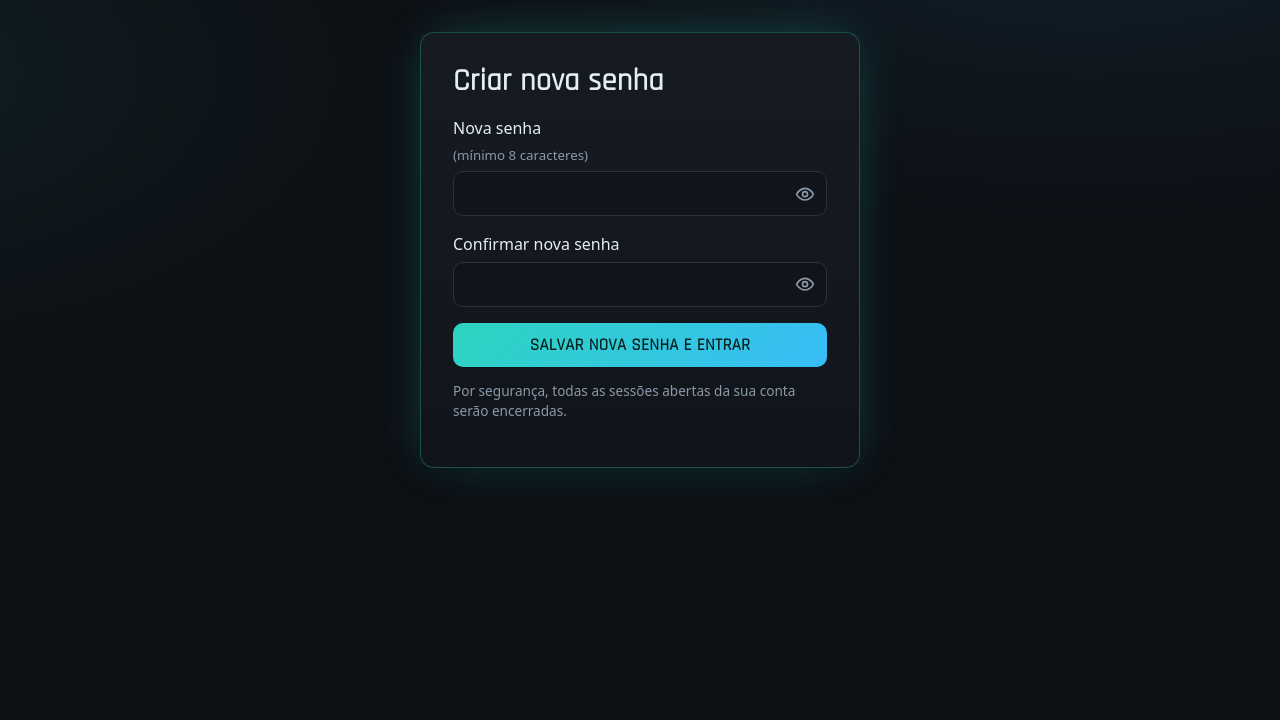
Scenario: redefinir senha › link expirado oferece pedir outro
Type "novaSenha456" into the password field labelled "Nova senha (mínimo 8 caracteres)" at (640, 194), box [453,171,827,216]
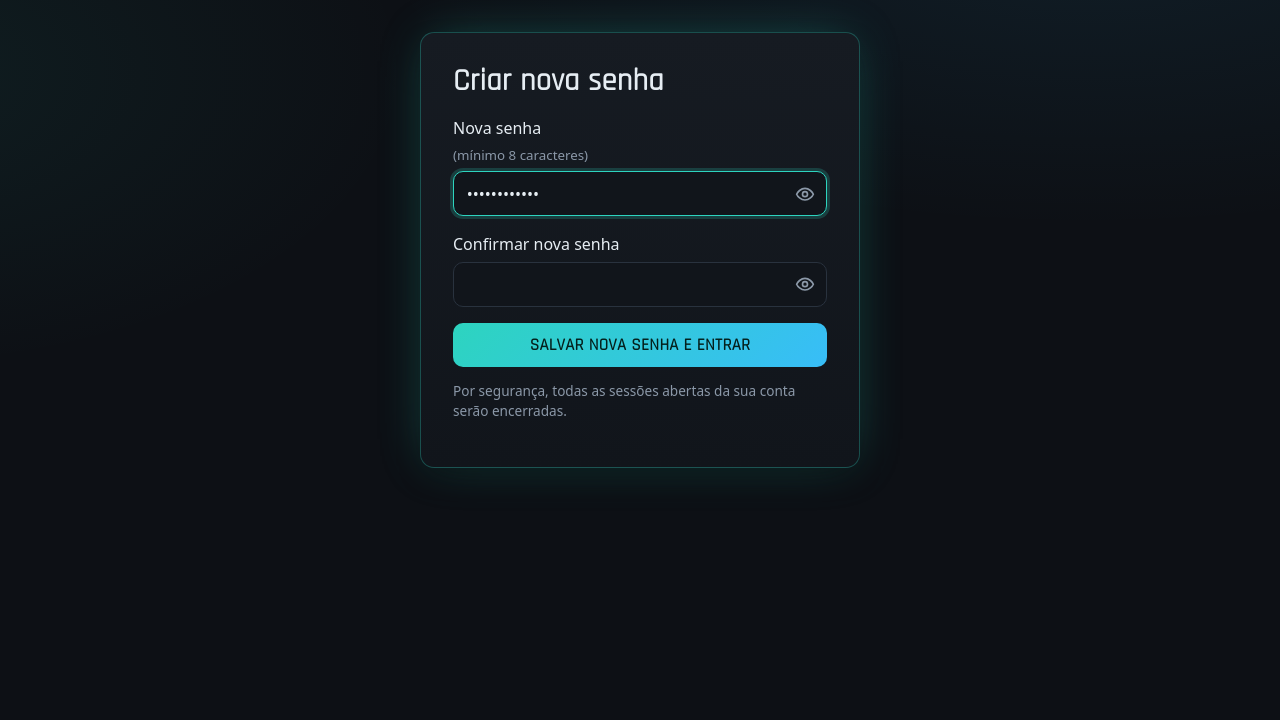
Type "novaSenha456" into the password field labelled "Confirmar nova senha" at (640, 284), box [453,262,827,307]
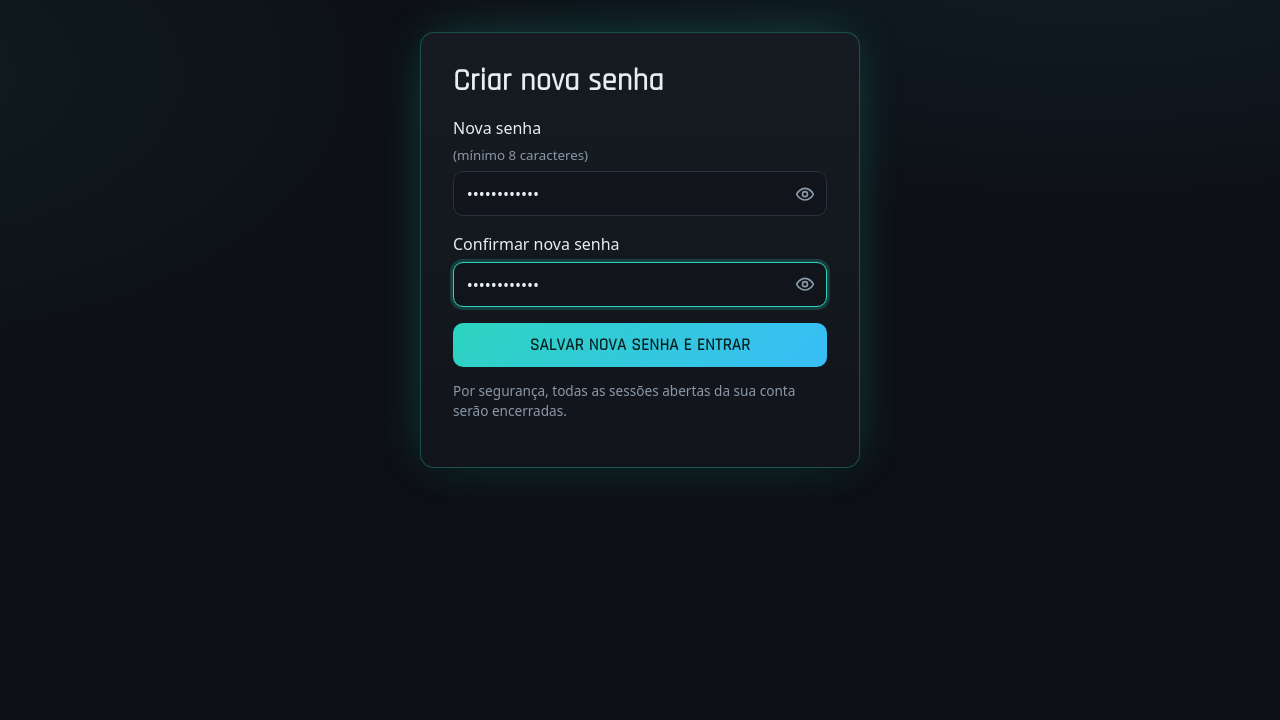
Click the button "Salvar nova senha e entrar" at (640, 345), box [453,323,827,368]
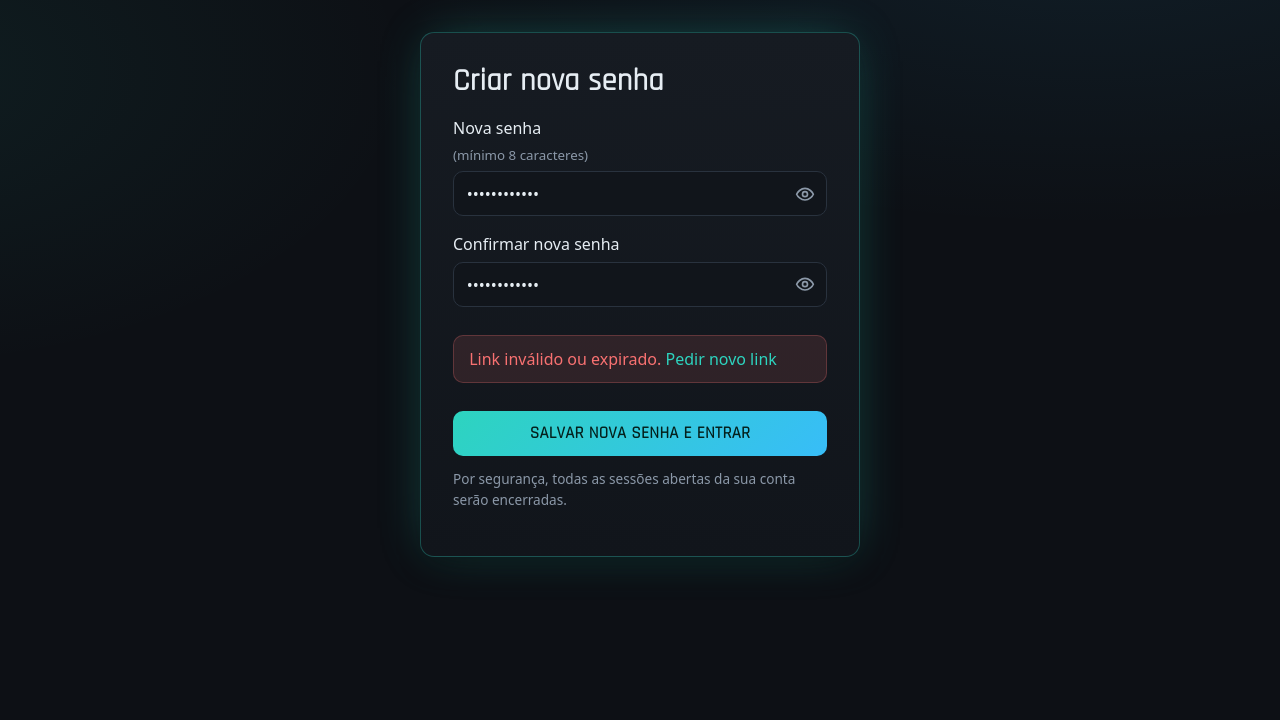
Now the link "Pedir novo link" is shown, box [666,348,777,370]
